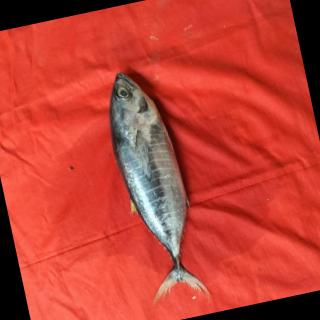Ikan: (76, 41, 232, 313)
